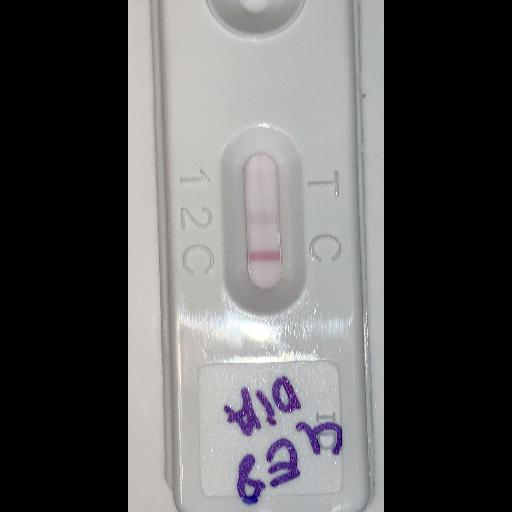Pos: (157, 0, 367, 508)
